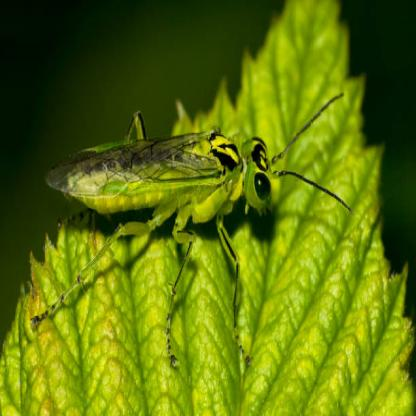sawfly: (23, 86, 362, 370)
